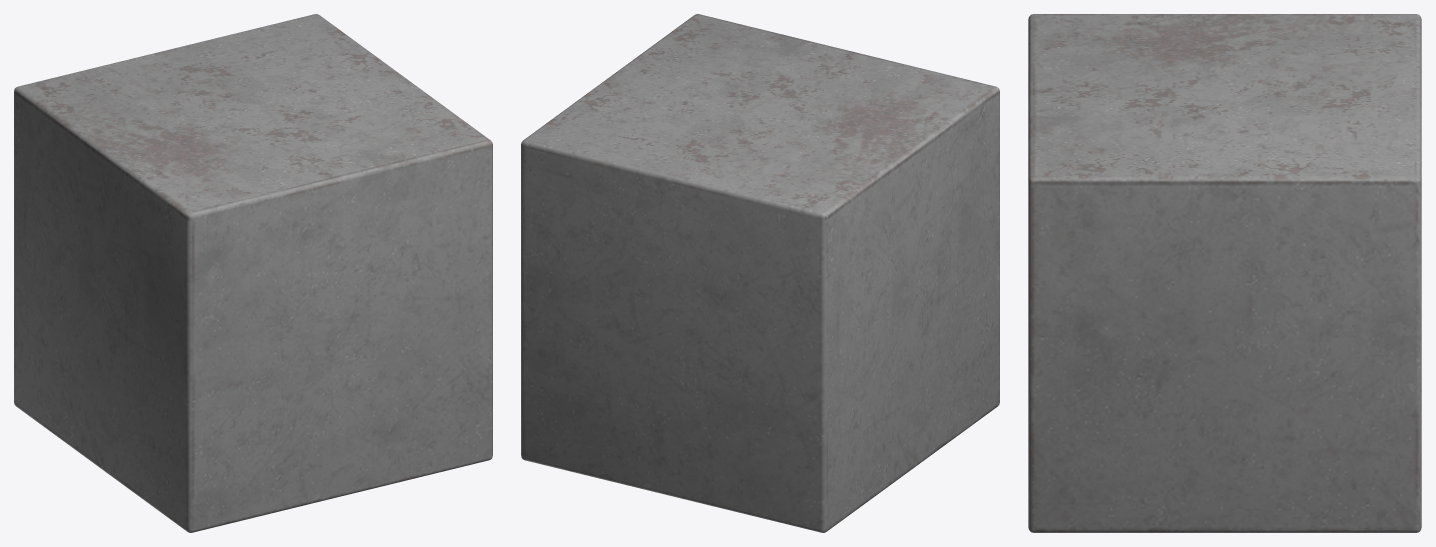
Rendered from CubeBlock.glb.
3 views of the same model, side by side, from view 1: azimuth 30°, elevation 25°; view 2: azimuth 150°, elevation 25°; view 3: azimuth 270°, elevation 25° (orthographic). The views are drawn at different scales.
Parts seen in each view (by area): view 1: Cube; view 2: Cube; view 3: Cube.
Part boxes in pixels (x1,y1,x2,y2): Cube: (14, 14, 492, 532); Cube: (521, 14, 999, 532); Cube: (1028, 14, 1421, 532).
Bounding box in the file's own units: 0.33 × 0.33 × 0.33.
Materials: 1 (1 with a texture image).
